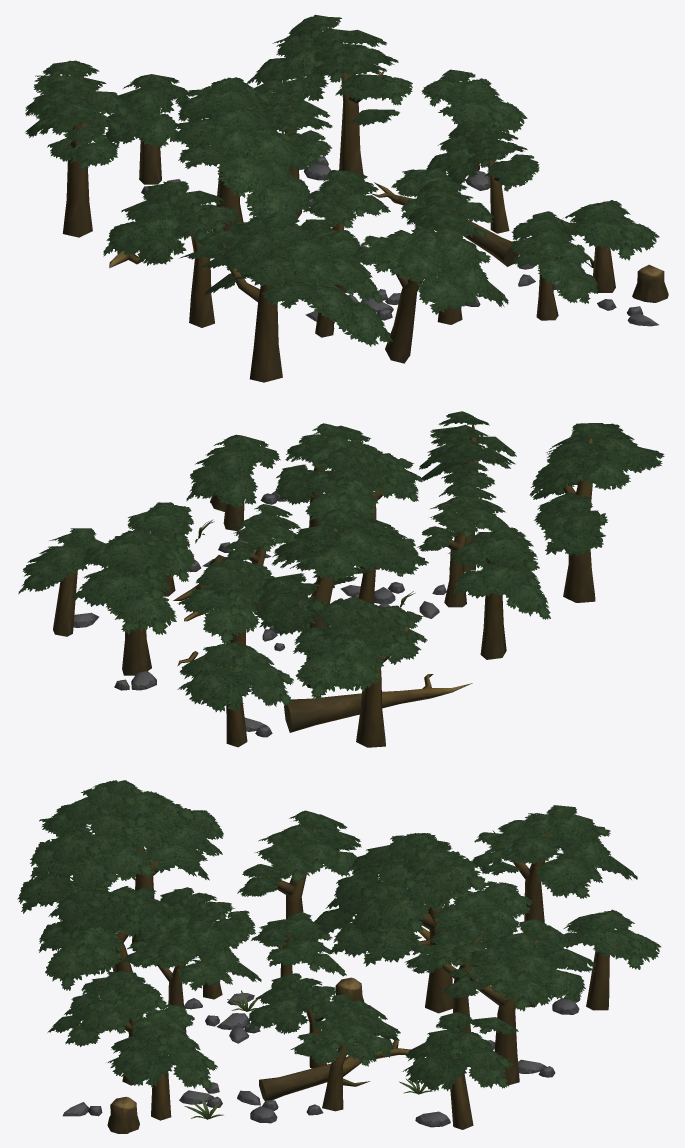
Rendered from WMOak2.FBX.
3 views of the same model, one above another, from view 1: azimuth 30°, elevation 25°; view 2: azimuth 150°, elevation 25°; view 3: azimuth 270°, elevation 25° (orthographic). The views are drawn at different scales.
Visible parts, largest first — view 1: Object495; view 2: Object495; view 3: Object495.
Boxes of the visible parts, x1,y1,x2,y2 form: Object495: (25,14,668,382); Object495: (18,411,664,747); Object495: (17,780,661,1133).
Bounding box in the file's own units: 1.72 × 0.6229 × 2.06.
1 material, 1 textured.
